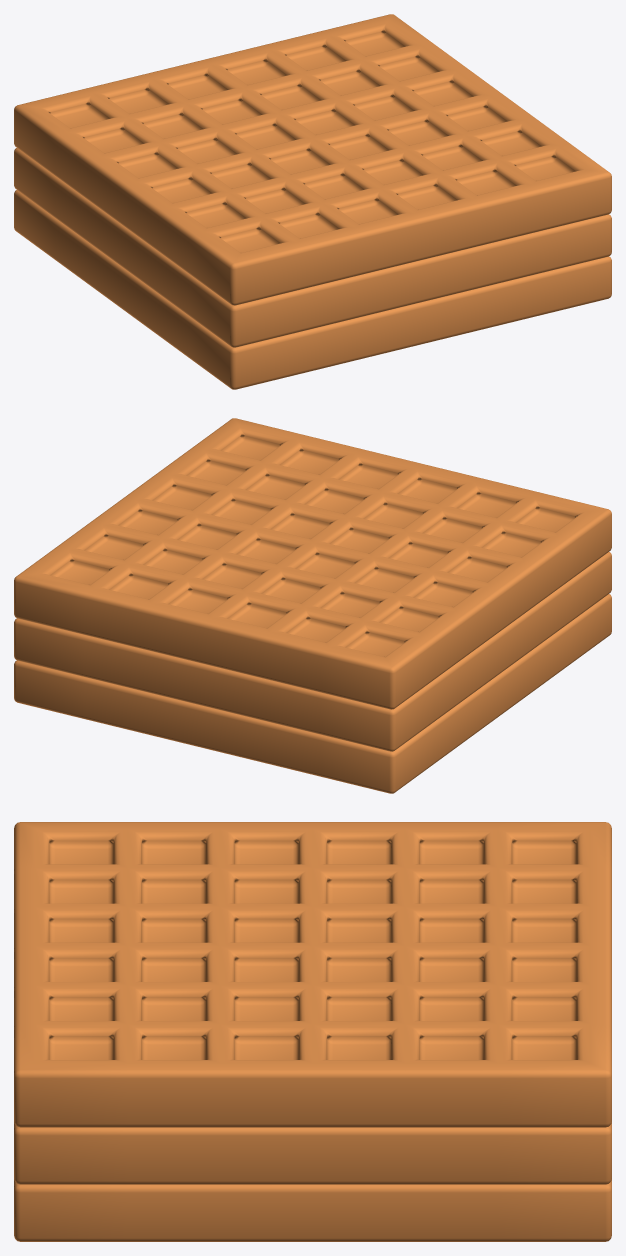
Rendered from Waffles model.fbx.
The picture shows the model from 3 angles, top to bottom: view 1: azimuth 30°, elevation 25°; view 2: azimuth 150°, elevation 25°; view 3: azimuth 270°, elevation 25°; orthographic projection. The views are drawn at different scales.
Parts seen in each view (by area): view 1: Plane; view 2: Plane; view 3: Plane.
Part boxes in pixels (left/top/right/bottom): Plane: left=14, top=14, right=611, bottom=389; Plane: left=14, top=418, right=611, bottom=793; Plane: left=14, top=822, right=611, bottom=1241.
Size of the model in its own units: 186 by 58.89 by 186.
